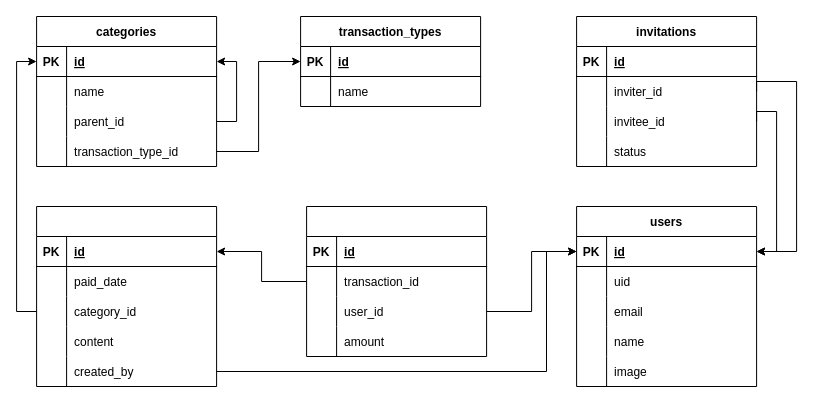
This 813x403 diagram has some shape labels left out. Each missing label, with the box of its shape:
transaction_users: (306, 206, 487, 356)
transactions: (36, 206, 217, 386)
